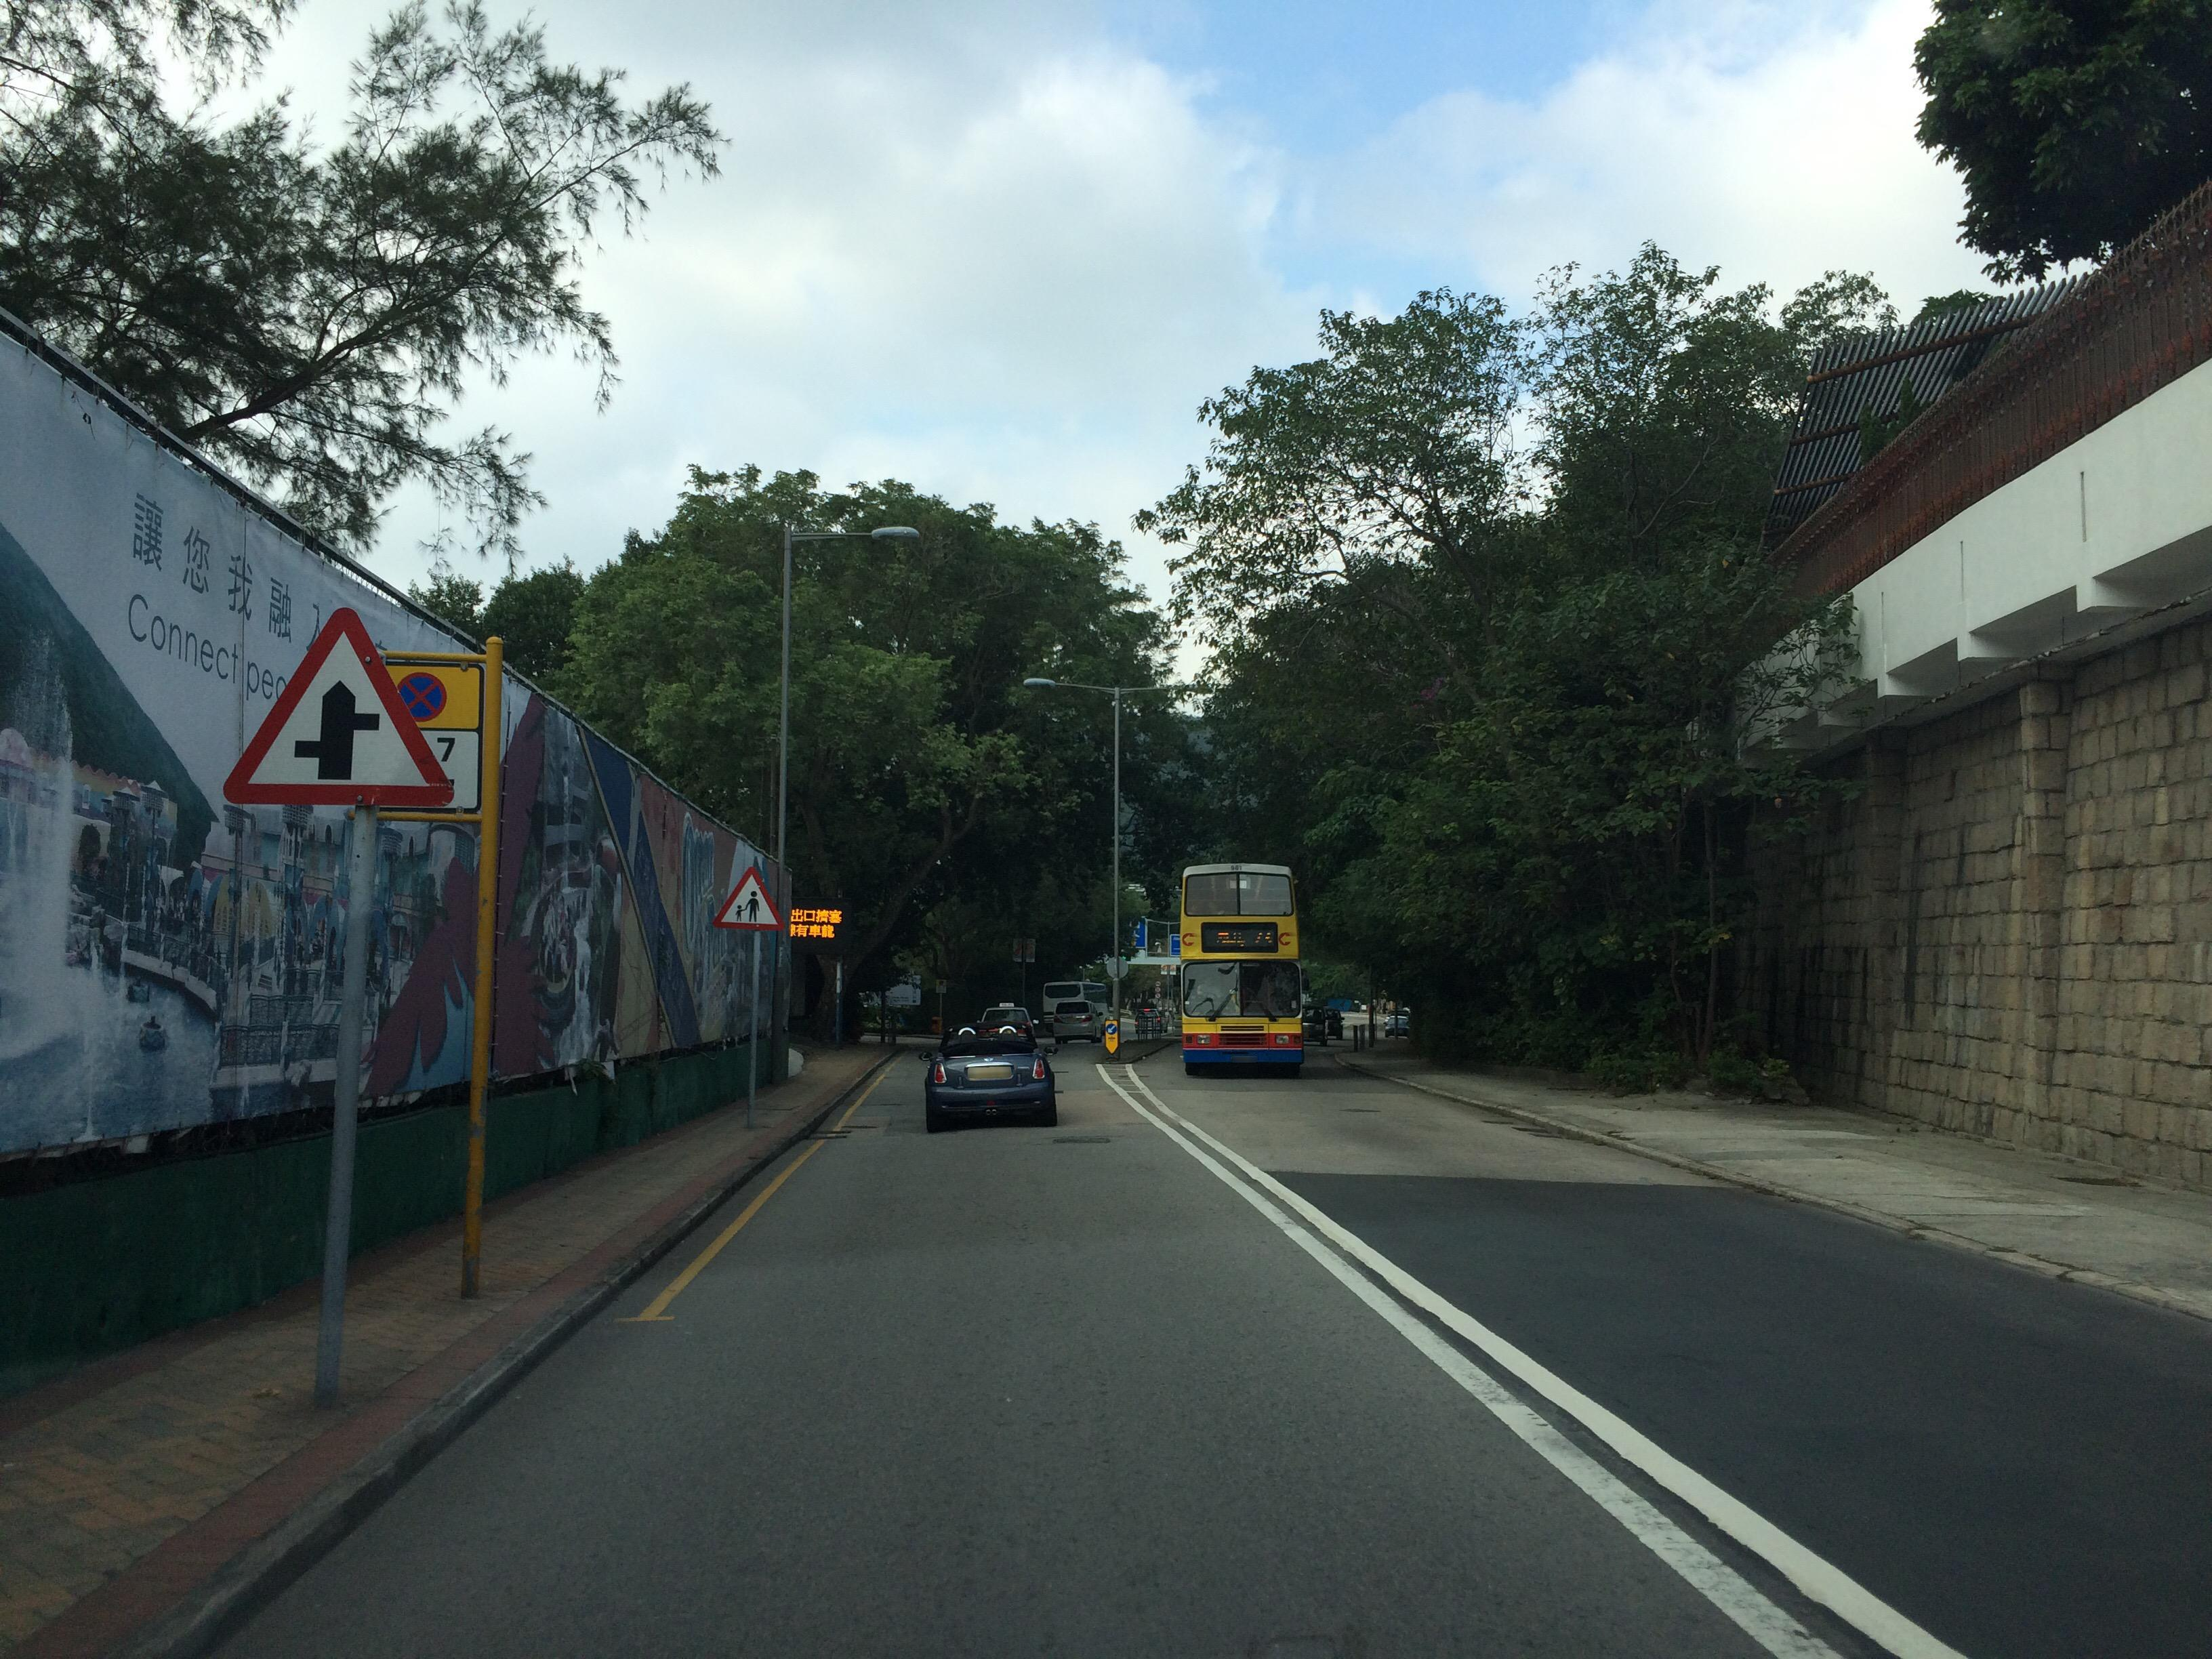vinyl banner: (3, 329, 834, 1164)
